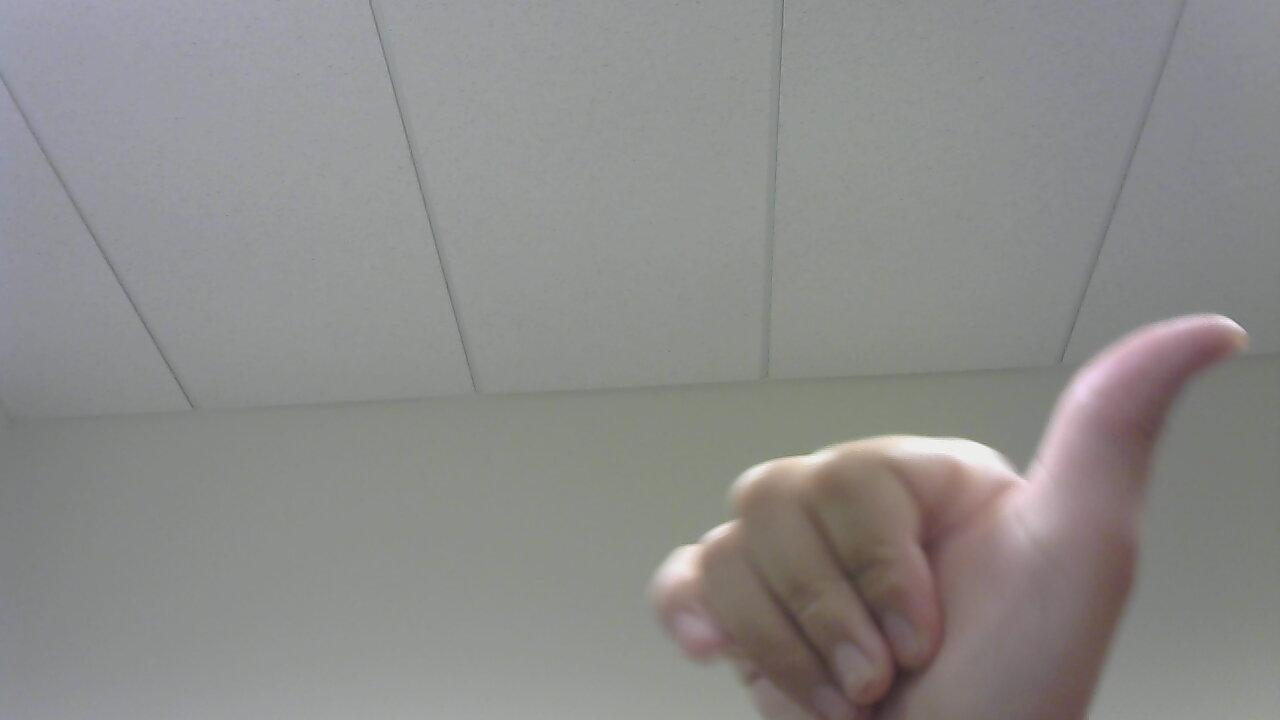hands: (638, 304, 1256, 720)
